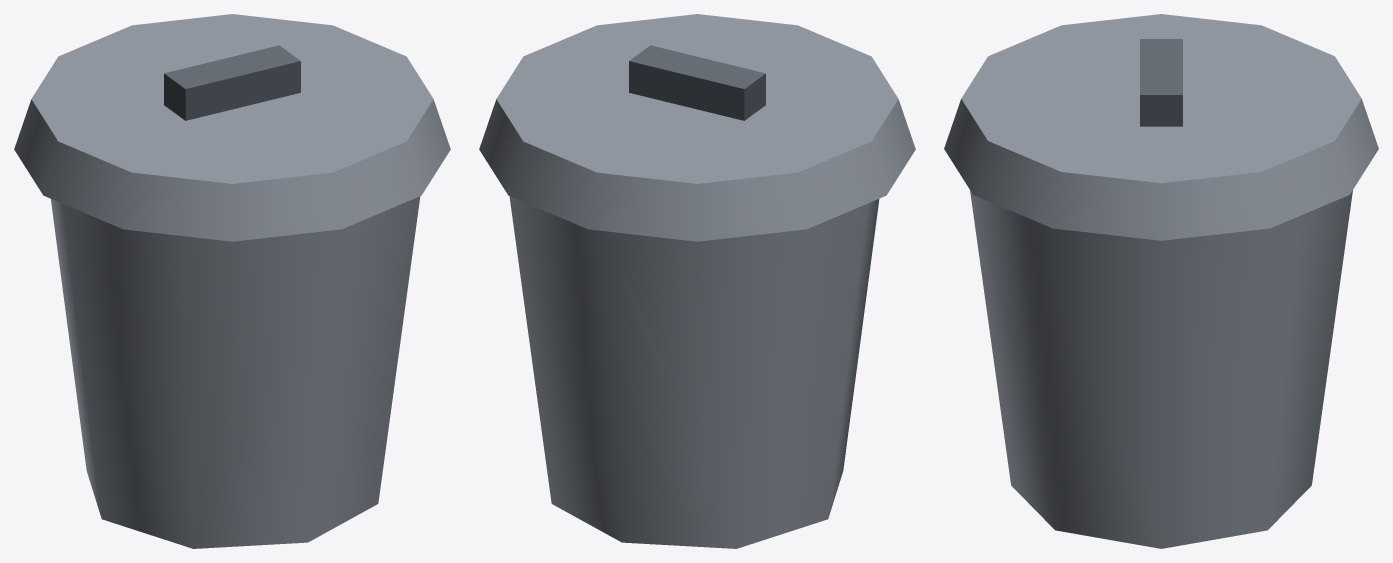
Rendered from trash_can_08_pacote.glb.
3 renders of one model, left to right at view 1: azimuth 30°, elevation 25°; view 2: azimuth 150°, elevation 25°; view 3: azimuth 270°, elevation 25°, orthographic.
Visible parts, largest first — view 1: trash_can_08_pacote; view 2: trash_can_08_pacote; view 3: trash_can_08_pacote.
Part boxes in pixels (x1=…): trash_can_08_pacote: x1=14, y1=14, x2=450, y2=548; trash_can_08_pacote: x1=479, y1=14, x2=915, y2=548; trash_can_08_pacote: x1=944, y1=14, x2=1378, y2=548.
Size of the model in its own units: 1.14 by 1.21 by 1.14.
1 material, 1 textured.
